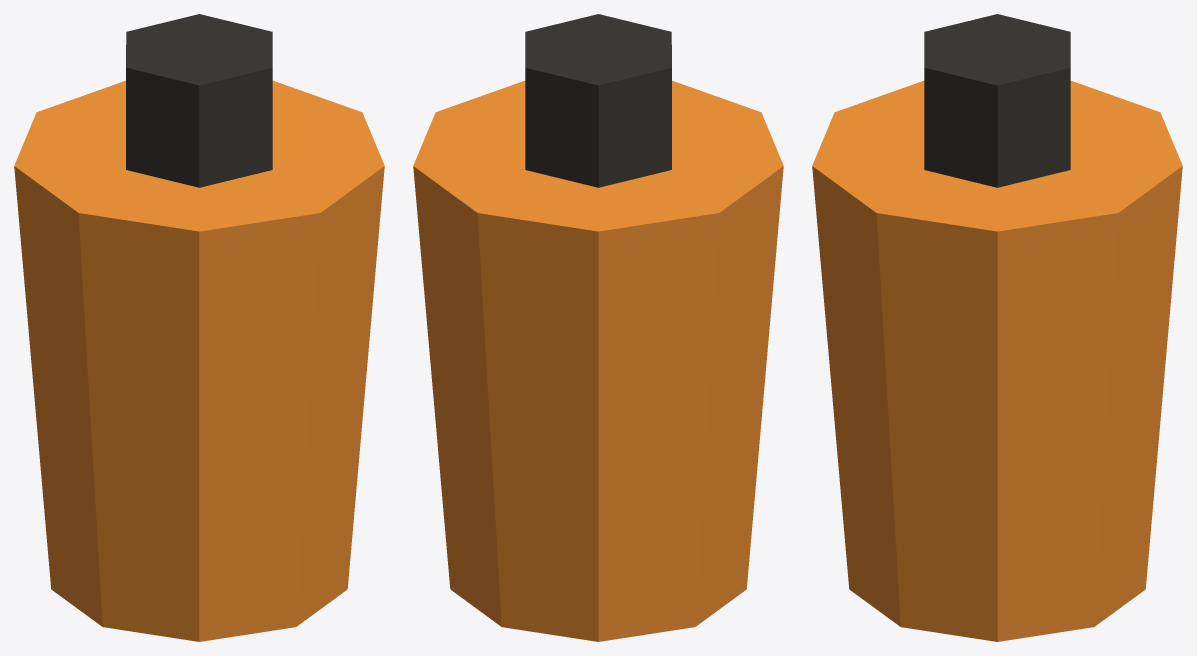
File: estus_flask.obj
3 views of the same model, side by side, from view 1: azimuth 30°, elevation 25°; view 2: azimuth 150°, elevation 25°; view 3: azimuth 270°, elevation 25° (orthographic).
Parts seen in each view (by area): view 1: estus_glass, estus_cap; view 2: estus_glass, estus_cap; view 3: estus_glass, estus_cap.
Boxes of the visible parts, <box> form: estus_glass: <box>14,80,384,641</box>; estus_cap: <box>126,14,272,187</box>; estus_glass: <box>413,80,783,641</box>; estus_cap: <box>525,14,671,187</box>; estus_glass: <box>812,80,1182,641</box>; estus_cap: <box>924,14,1070,187</box>.
Size of the model in its own units: 0.3879 by 0.62 by 0.394.
